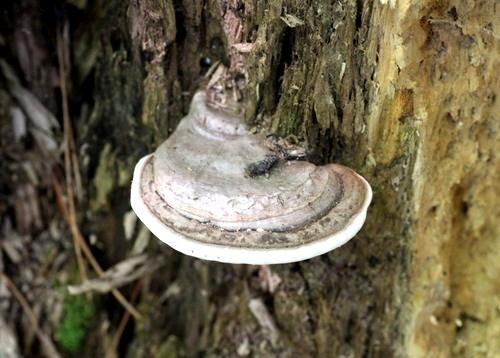Ganoderma - Fruit Body: (130, 89, 374, 273)
